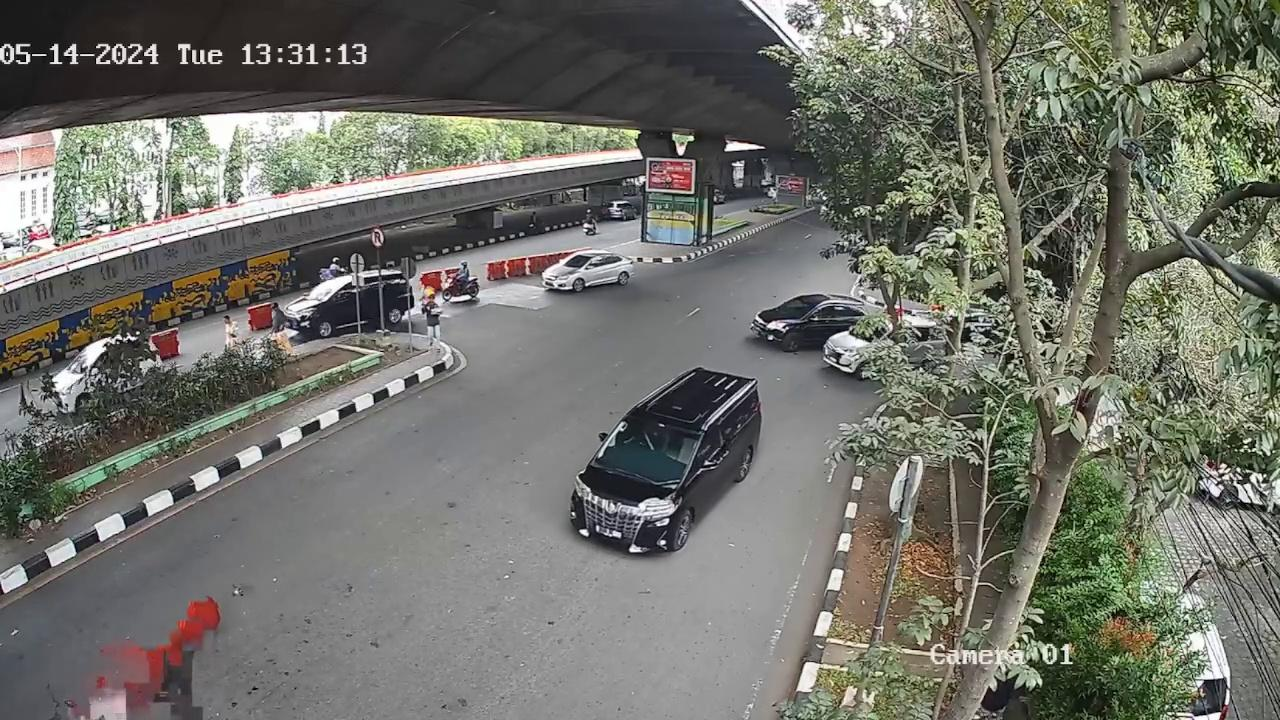pakai: (629, 422, 666, 455)
windshield: (599, 413, 697, 487)
